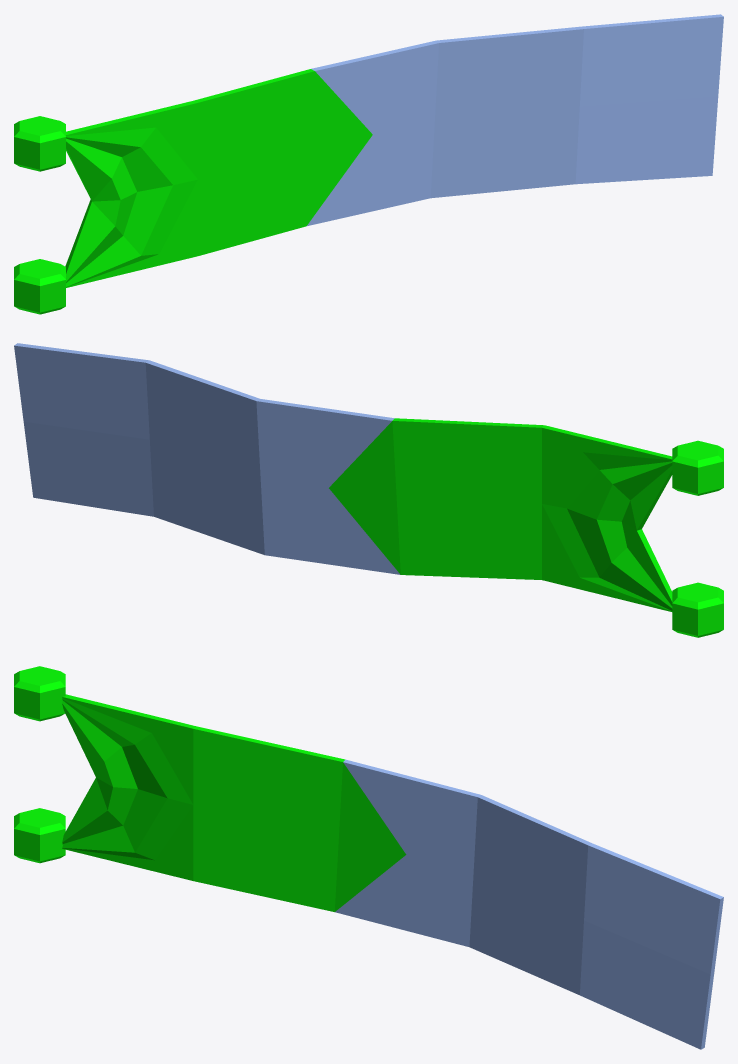
Rendered from SM_Flag_Thin_A_Fantasy.fbx.
3 views of the same model, one above another, from view 1: azimuth 30°, elevation 25°; view 2: azimuth 150°, elevation 25°; view 3: azimuth 330°, elevation 25° (orthographic).
Visible parts, largest first — view 1: flag-thin-a-fantasy; view 2: flag-thin-a-fantasy; view 3: flag-thin-a-fantasy.
Part boxes in pixels (x1,y1,x2,y2): flag-thin-a-fantasy: [14, 14, 723, 314]; flag-thin-a-fantasy: [14, 343, 723, 637]; flag-thin-a-fantasy: [14, 666, 723, 1049].
Size of the model in its own units: 1.22 by 0.347 by 0.1115.
